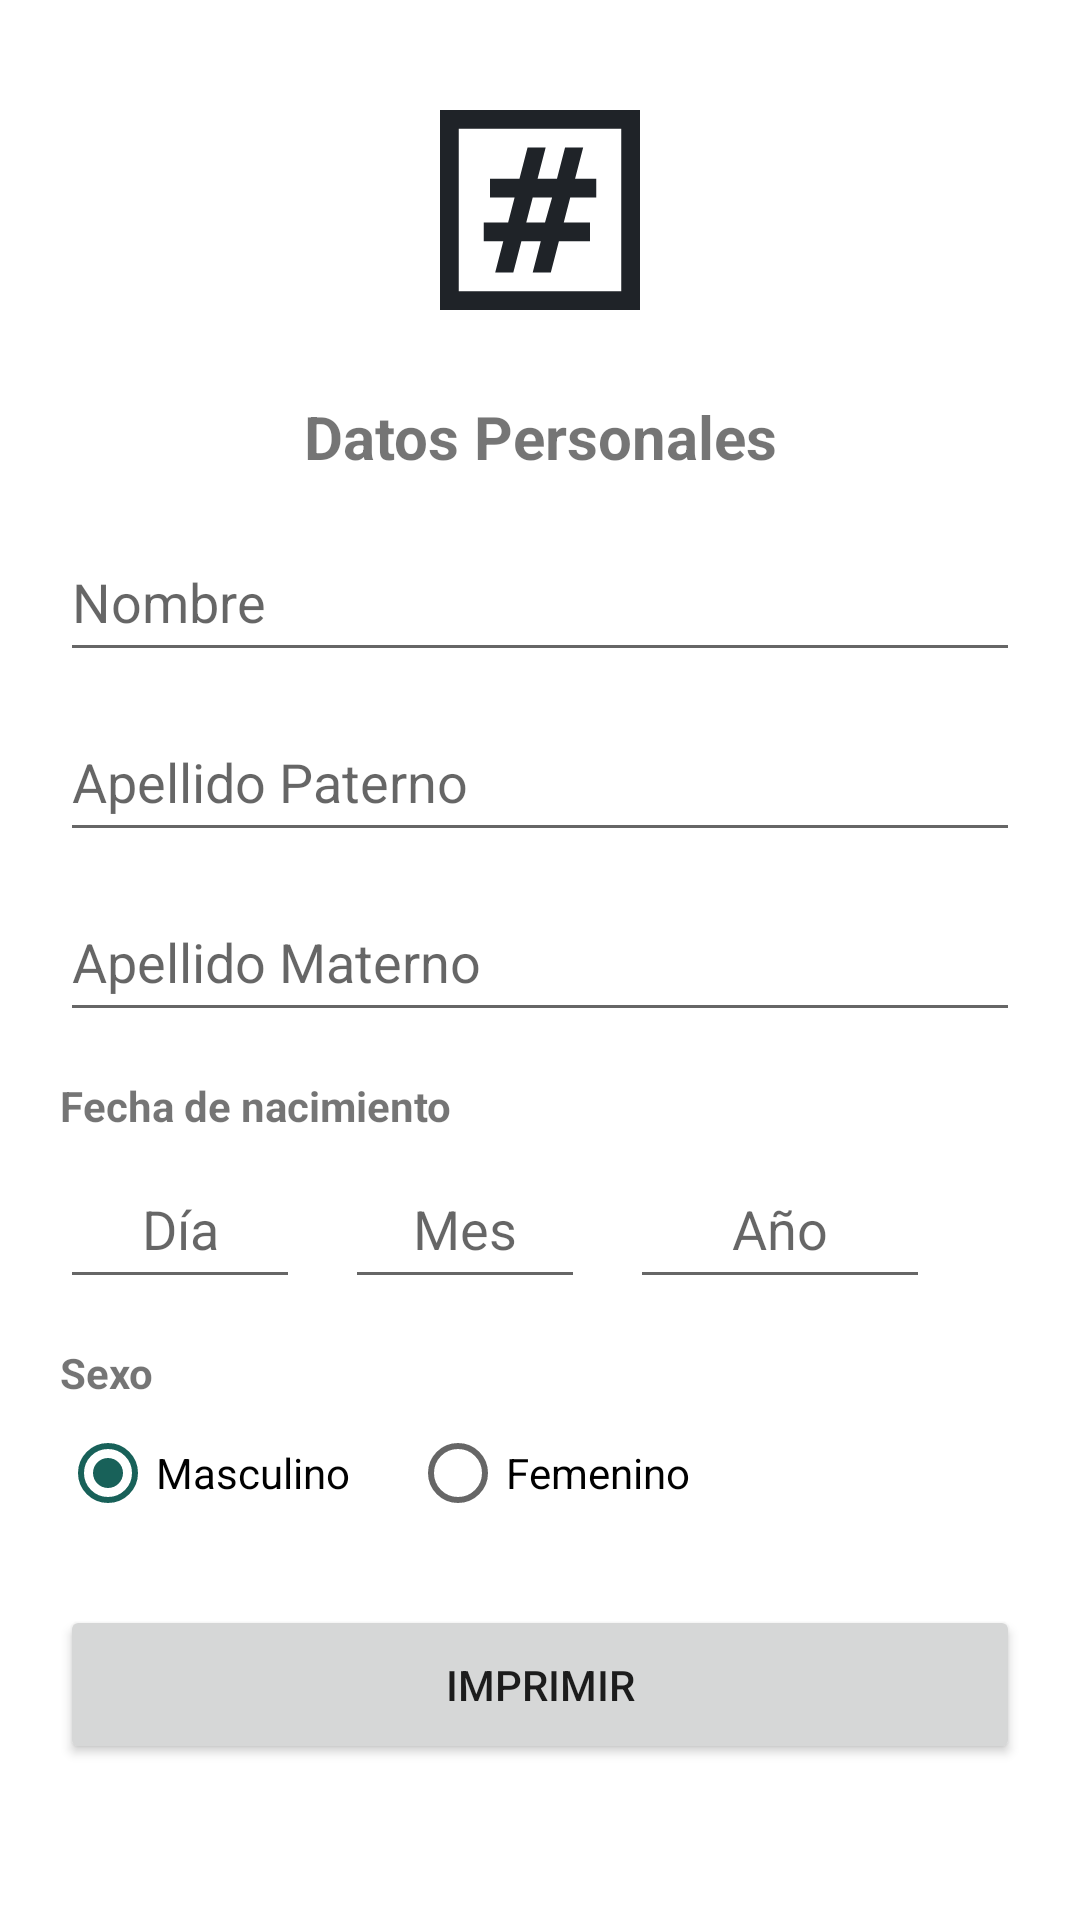

Icons on this 1080 × 1920 Android screen, each with the point to tap as (x=x, y=y):
number: (x=540, y=210)
